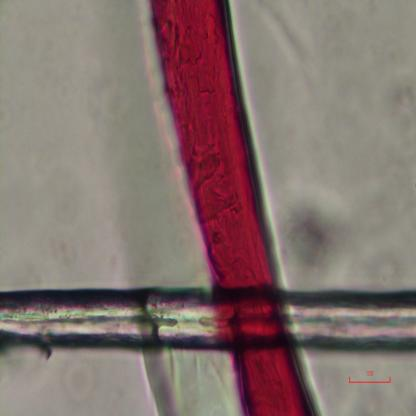Air bubble: (139, 352, 244, 415)
Background material: (280, 194, 346, 280), (262, 2, 307, 78), (396, 71, 416, 142)
Hair textile: (148, 0, 322, 416)
Microfibre: (0, 284, 416, 363)
